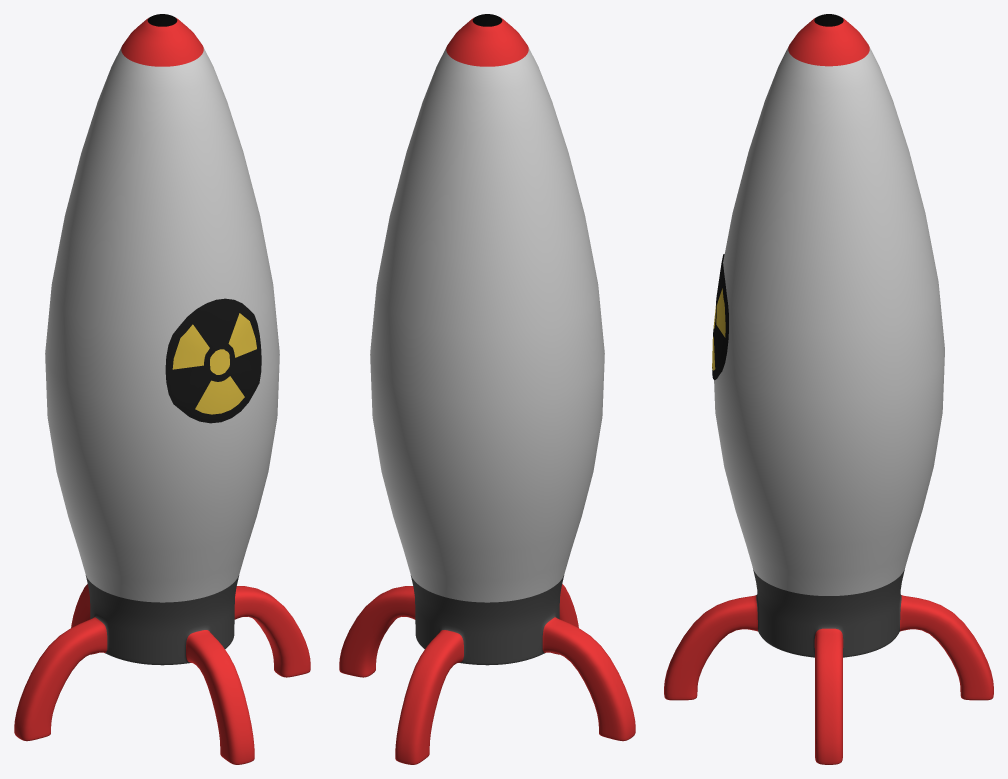
The model's file is rocket_mk0.fbx.
3 renders of one model, left to right at view 1: azimuth 30°, elevation 25°; view 2: azimuth 150°, elevation 25°; view 3: azimuth 270°, elevation 25°, orthographic.
Visible parts, largest first — view 1: rocket, sign; view 2: rocket; view 3: rocket, sign.
Boxes of the visible parts, x1,y1,x2,y2 form: rocket: (14,14,310,764); sign: (165,298,261,423); rocket: (339,14,635,764); rocket: (664,14,993,764); sign: (712,254,728,380).
Bounding box in the file's own units: 115 × 262 × 115.
